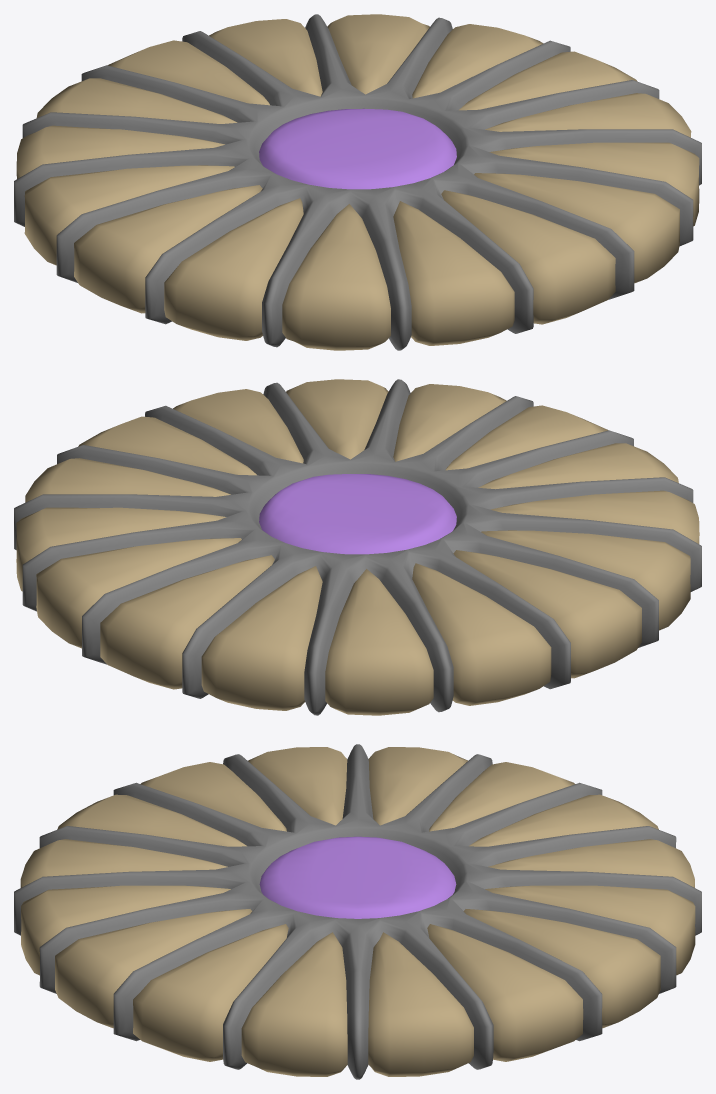
The model's file is Barrier_Explodable_1.fbx.
The picture shows the model from 3 angles, top to bottom: view 1: azimuth 30°, elevation 25°; view 2: azimuth 150°, elevation 25°; view 3: azimuth 270°, elevation 25°; orthographic projection.
Parts seen in each view (by area): view 1: ExplodableBarrier; view 2: ExplodableBarrier; view 3: ExplodableBarrier.
Boxes of the visible parts, x1=… form: ExplodableBarrier: x1=14, y1=14, x2=701, y2=350; ExplodableBarrier: x1=14, y1=379, x2=701, y2=715; ExplodableBarrier: x1=14, y1=744, x2=701, y2=1079.
Bounding box in the file's own units: 326 × 41.24 × 326.
